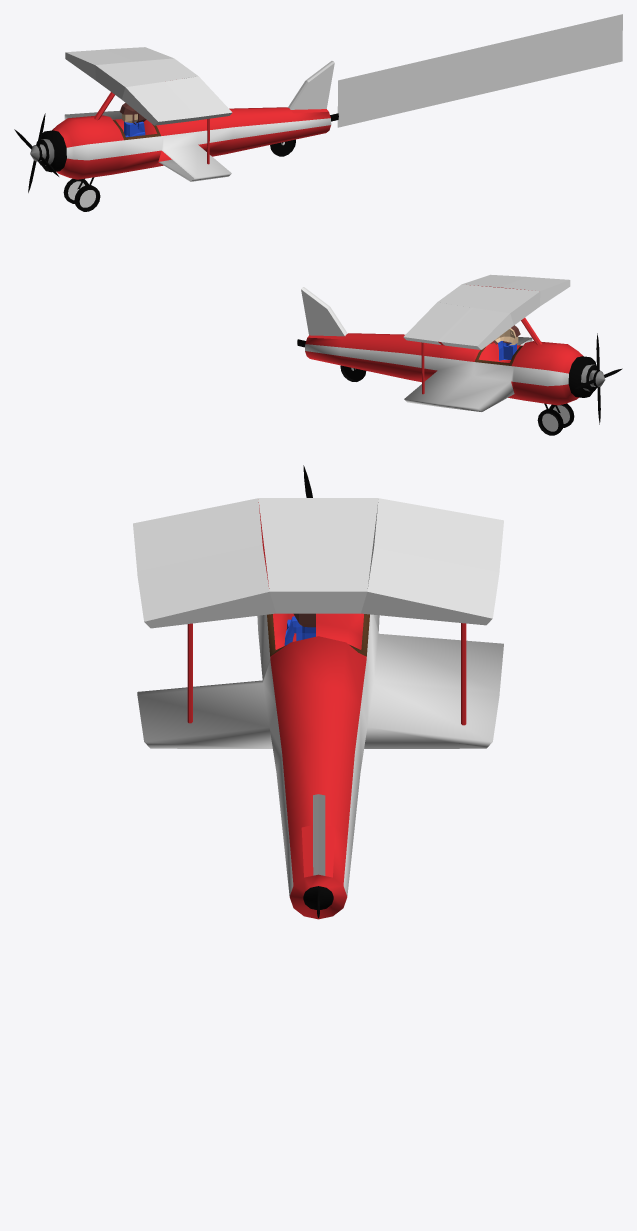
The model's file is airplane.glb.
3 views of the same model, one above another, from view 1: azimuth 30°, elevation 25°; view 2: azimuth 150°, elevation 25°; view 3: azimuth 270°, elevation 25° (orthographic). The views are drawn at different scales.
Parts seen in each view (by area): view 1: Plane.001, Banner, Plane, Pilot, Propellor; view 2: Plane.001, Plane, Pilot, Propellor; view 3: Plane.001, Plane.
Part boxes in pixels (left/top/right/bottom): Plane.001: left=30, top=107, right=338, bottom=181; Banner: left=337, top=14, right=622, bottom=127; Plane: left=63, top=47, right=334, bottom=211; Pilot: left=122, top=114, right=145, bottom=137; Propellor: left=14, top=113, right=58, bottom=192; Plane.001: left=297, top=333, right=605, bottom=411; Plane: left=301, top=274, right=574, bottom=435; Pilot: left=495, top=328, right=518, bottom=360; Propellor: left=575, top=333, right=622, bottom=424; Plane.001: left=137, top=613, right=503, bottom=919; Plane: left=133, top=498, right=503, bottom=877.
Size of the model in its own units: 26.25 by 5.19 by 7.13.
